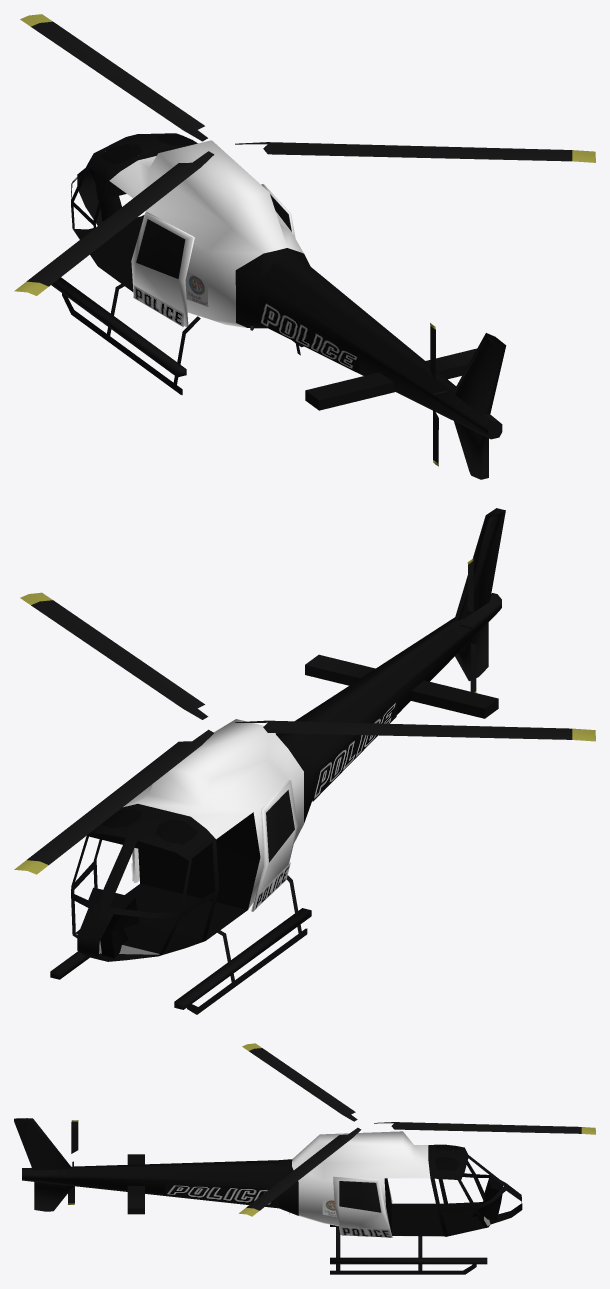
The model's file is polmav.glb.
3 renders of one model, top to bottom at view 1: azimuth 30°, elevation 25°; view 2: azimuth 150°, elevation 25°; view 3: azimuth 270°, elevation 25°, orthographic. The views are drawn at different scales.
Parts seen in each view (by area): view 1: chassis; view 2: chassis; view 3: chassis.
Boxes of the visible parts, box(x1,y1,x2,y2) form: chassis: box(14, 14, 595, 479); chassis: box(14, 508, 595, 1014); chassis: box(14, 1043, 595, 1274).
Bounding box in the file's own units: 8.81 × 3.26 × 12.47.
Materials: 3 (3 with a texture image).
